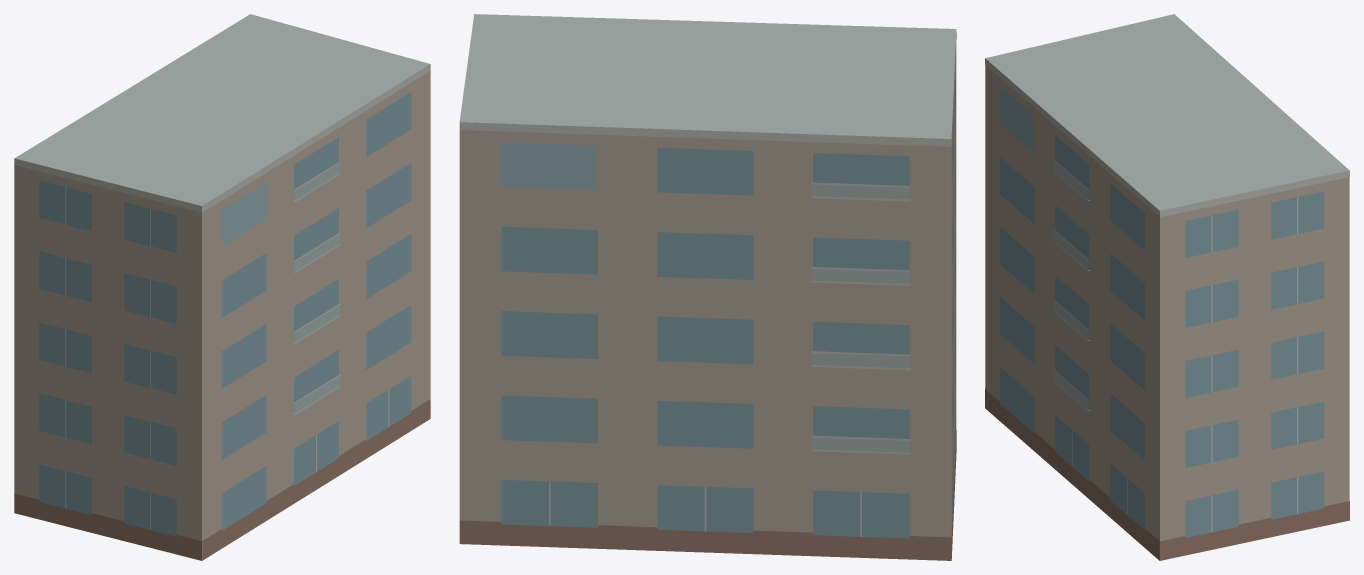
The model's file is survey-upis-32989243.glb.
The picture shows the model from 3 angles, left to right: view 1: azimuth 30°, elevation 25°; view 2: azimuth 150°, elevation 25°; view 3: azimuth 270°, elevation 25°; orthographic projection. The views are drawn at different scales.
Parts seen in each view (by area): view 1: survey-upis-32989243.tmp; view 2: survey-upis-32989243.tmp; view 3: survey-upis-32989243.tmp.
Boxes of the visible parts, bbox=[...] form: survey-upis-32989243.tmp: bbox=[14, 14, 430, 560]; survey-upis-32989243.tmp: bbox=[459, 14, 956, 560]; survey-upis-32989243.tmp: bbox=[985, 14, 1349, 560].
Size of the model in its own units: 15.81 by 13.1 by 12.38.
